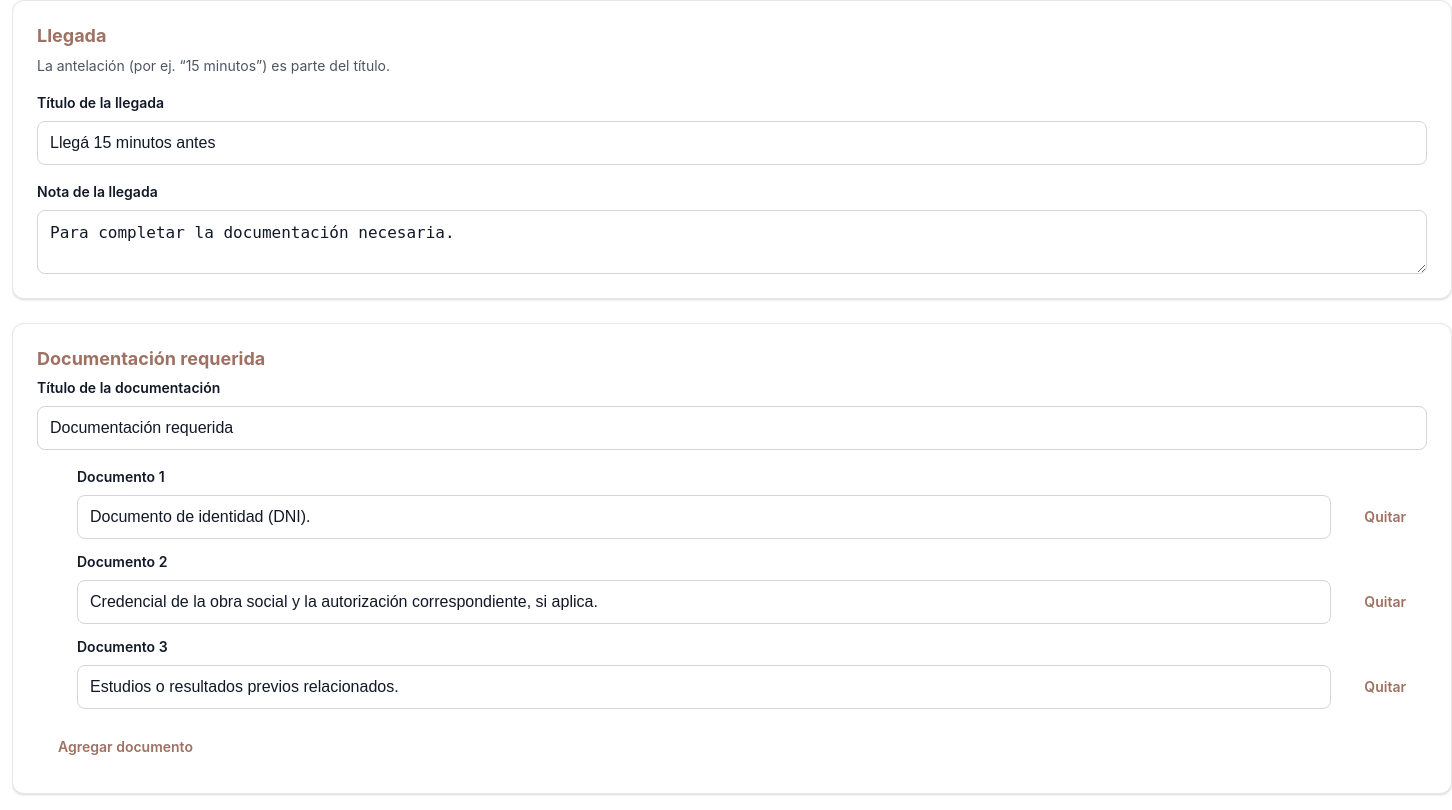
Test case: ClinicInfoEditor › removes a documentation item on save
Note: The first "Quitar" belongs to the first documentation item.
Click the 1st button "Quitar": (1385, 517) x1=1343 y1=495 x2=1427 y2=539
(page scrolled)
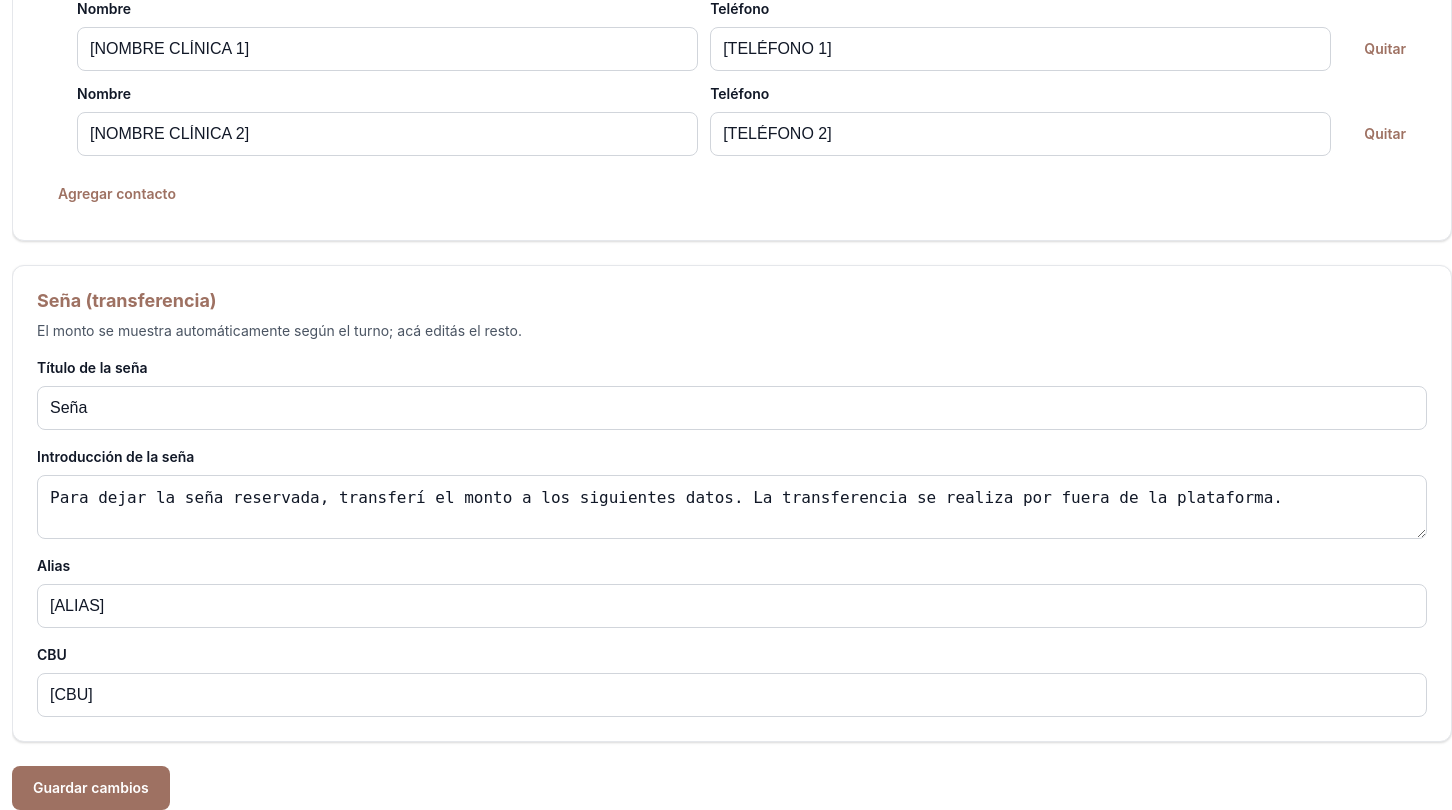
Click the button "Guardar cambios": (91, 788) x1=12 y1=766 x2=170 y2=809
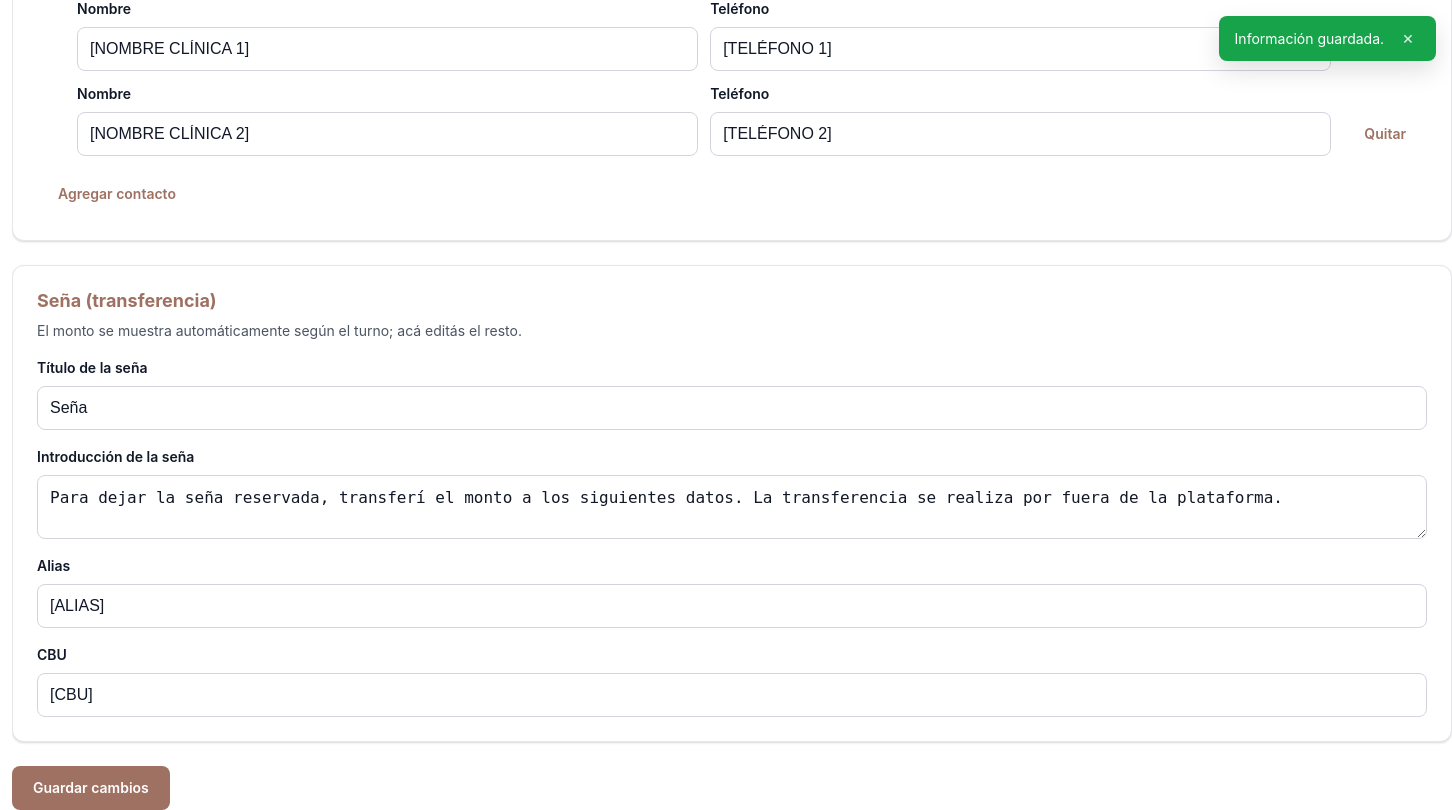
Expected: the message "Información guardada. ×" is shown, x1=1219 y1=16 x2=1436 y2=61
